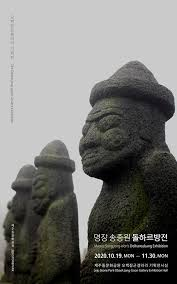Stone Statue: (65, 49, 177, 284), (22, 132, 83, 284), (6, 159, 46, 284)
